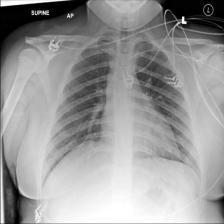normal: (38, 32, 205, 185)
